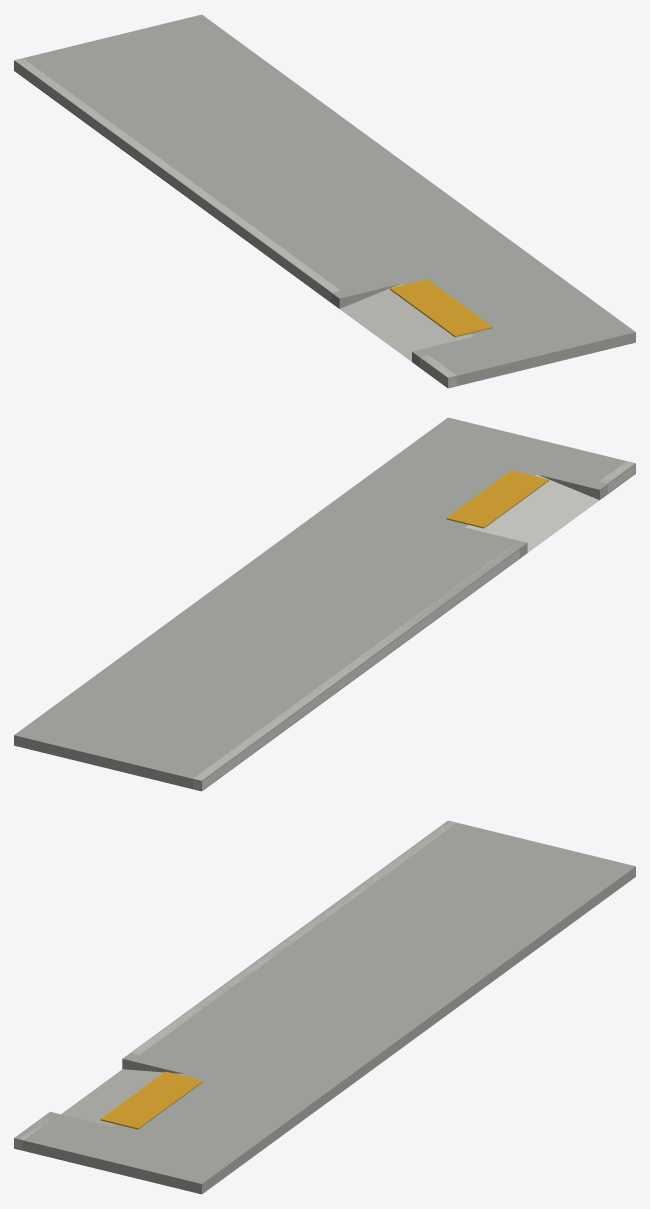
The model's file is sidewalk-segment.glb.
3 views of the same model, one above another, from view 1: azimuth 30°, elevation 25°; view 2: azimuth 150°, elevation 25°; view 3: azimuth 330°, elevation 25° (orthographic).
Parts seen in each view (by area): view 1: sidewalk-segment_concrete-pavers, sidewalk-segment_light-precast-concrete, sidewalk-segment_safety-yellow; view 2: sidewalk-segment_concrete-pavers, sidewalk-segment_light-precast-concrete, sidewalk-segment_safety-yellow; view 3: sidewalk-segment_concrete-pavers, sidewalk-segment_light-precast-concrete, sidewalk-segment_safety-yellow.
Boxes of the visible parts, left/top/right/bottom form: sidewalk-segment_concrete-pavers: left=14, top=14, right=635, bottom=388; sidewalk-segment_light-precast-concrete: left=14, top=58, right=473, bottom=386; sidewalk-segment_safety-yellow: left=390, top=279, right=492, bottom=337; sidewalk-segment_concrete-pavers: left=14, top=417, right=635, bottom=791; sidewalk-segment_light-precast-concrete: left=193, top=461, right=635, bottom=789; sidewalk-segment_safety-yellow: left=446, top=470, right=549, bottom=528; sidewalk-segment_concrete-pavers: left=14, top=820, right=635, bottom=1194; sidewalk-segment_light-precast-concrete: left=15, top=821, right=455, bottom=1149; sidewalk-segment_safety-yellow: left=100, top=1071, right=203, bottom=1129.
Size of the model in its own units: 3 by 0.1798 by 12.
